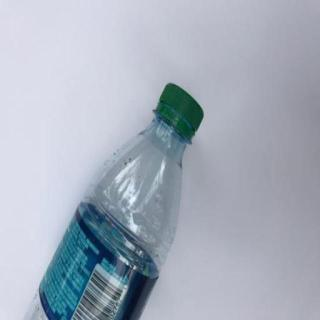Plastic-bottle: (9, 82, 205, 320)
